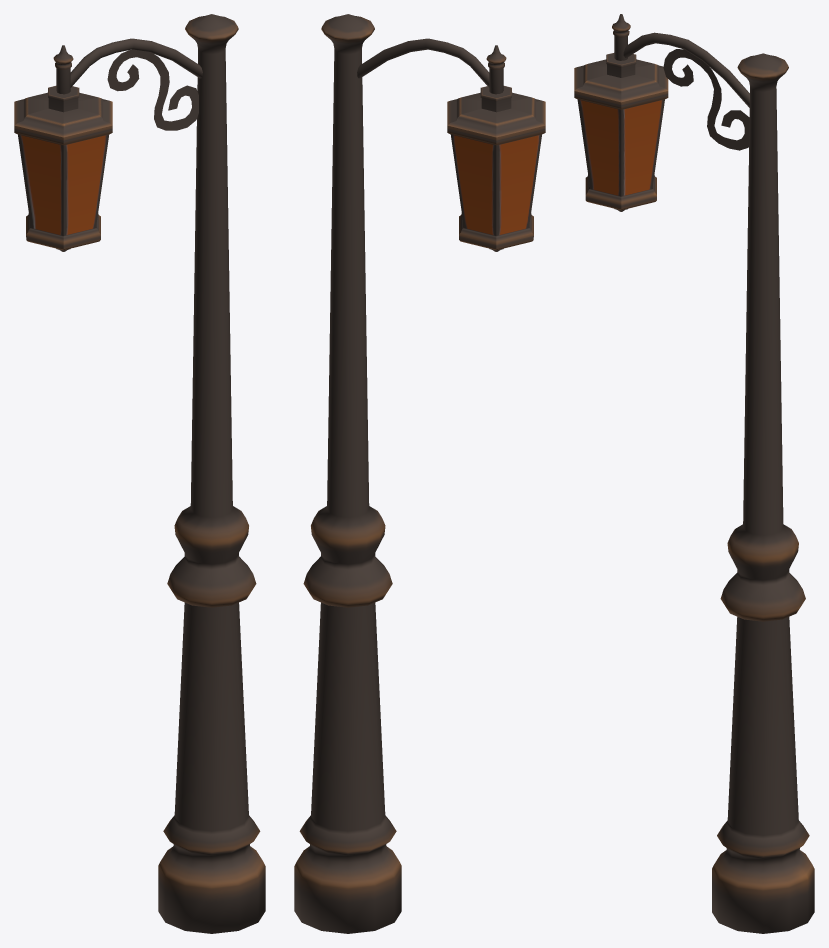
File: lamp.fbx
3 views of the same model, side by side, from view 1: azimuth 30°, elevation 25°; view 2: azimuth 150°, elevation 25°; view 3: azimuth 330°, elevation 25° (orthographic). The views are drawn at different scales.
Visible parts, largest first — view 1: Lamp; view 2: Lamp; view 3: Lamp.
Boxes of the visible parts, <box> form: Lamp: <box>14,14,265,933</box>; Lamp: <box>294,14,545,933</box>; Lamp: <box>574,14,814,933</box>.
Size of the model in its own units: 114 by 403 by 43.51.
